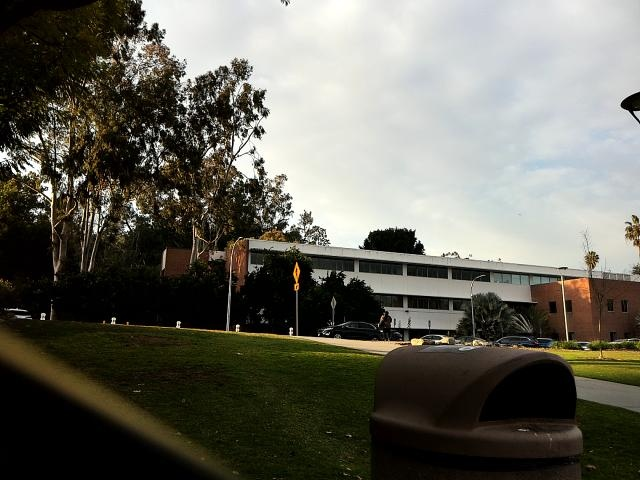trashcan: (368, 324, 589, 480)
